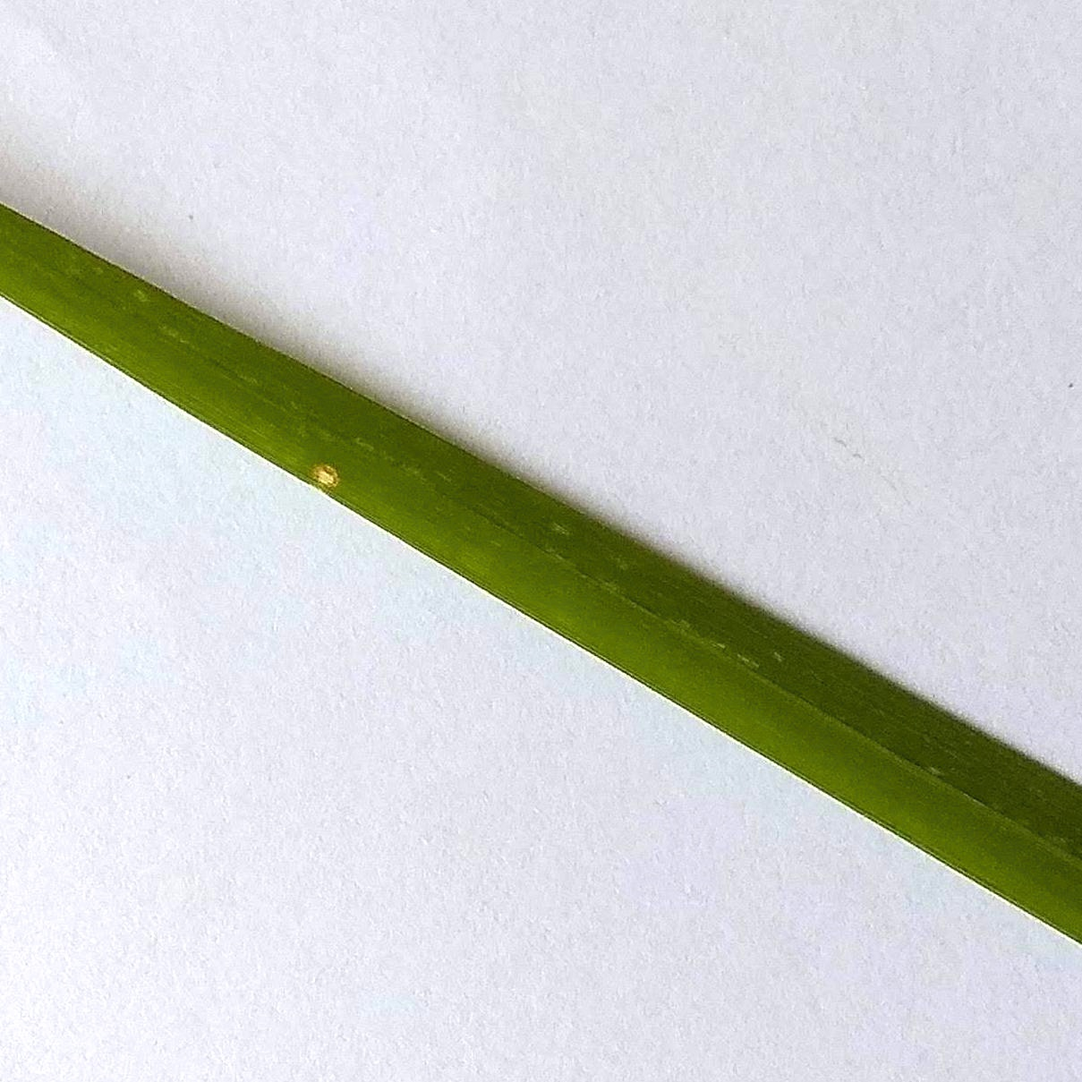Brown_Spot: (306, 438, 343, 504)
